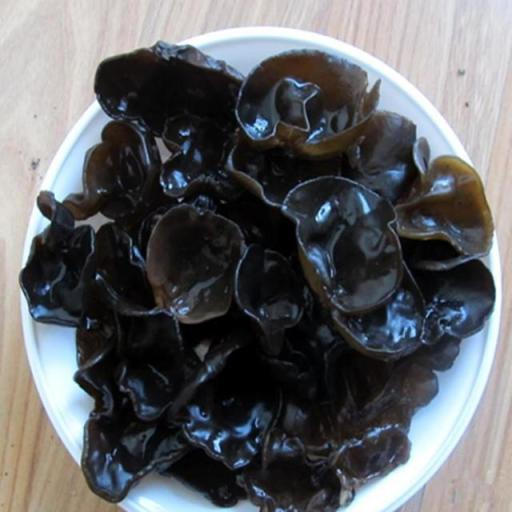Wood Ear Mushroom: (21, 40, 494, 512)
